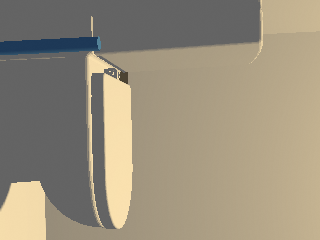lid_1: (91, 73, 132, 228)
